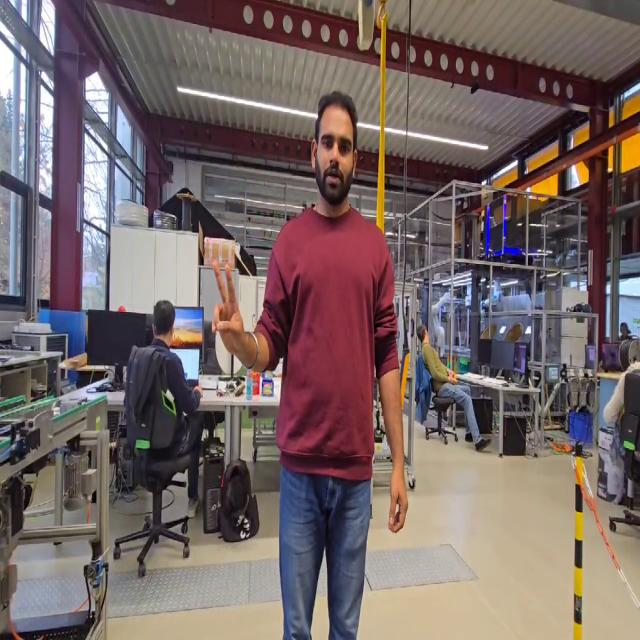v_sign: (207, 254, 247, 362)
